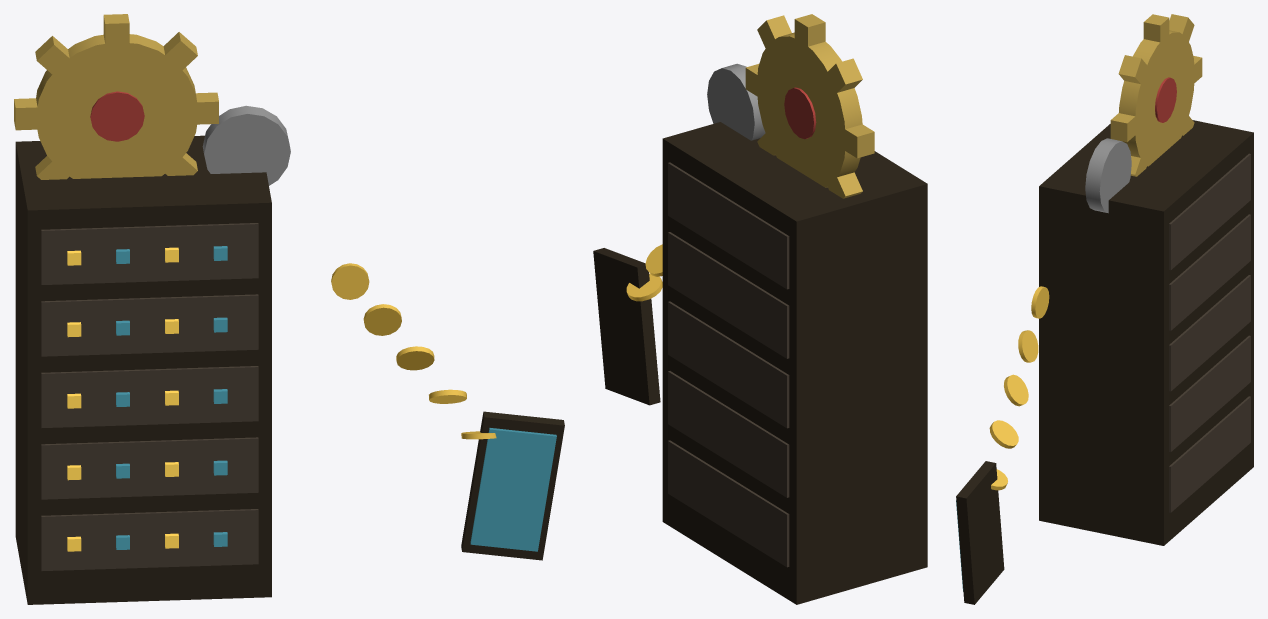
File: algorithm.glb
3 views of the same model, side by side, from view 1: azimuth 30°, elevation 25°; view 2: azimuth 150°, elevation 25°; view 3: azimuth 270°, elevation 25° (orthographic). The views are drawn at different scales.
Bounding box in the file's own units: 1.87 × 2.23 × 1.29.
